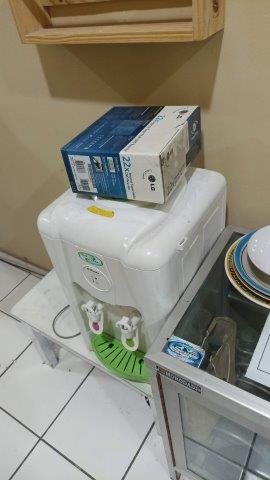kardus: (62, 106, 200, 205)
